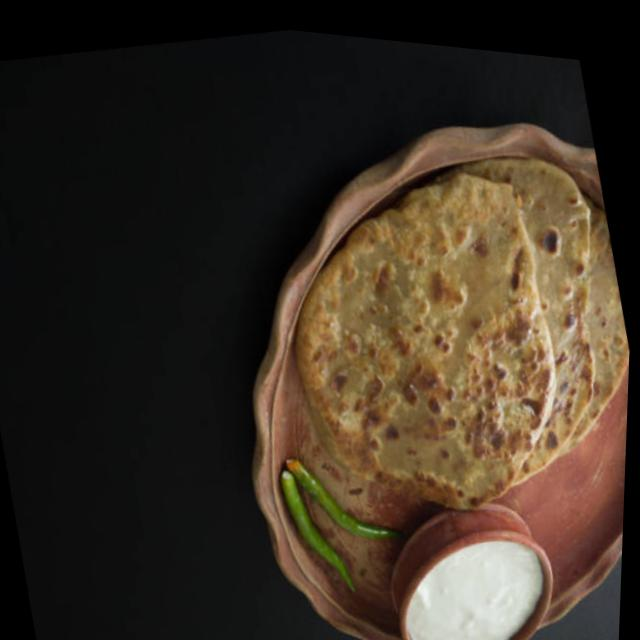CURD: (406, 542, 542, 640)
PAROTTA: (295, 159, 629, 508)
